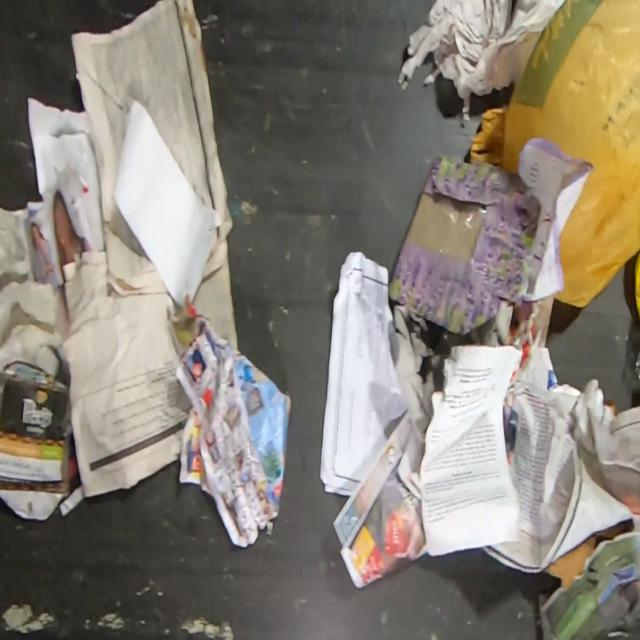cardboard: (388, 154, 542, 335), (0, 354, 71, 522), (546, 530, 610, 585)
soft_plastic: (470, 0, 640, 312)
